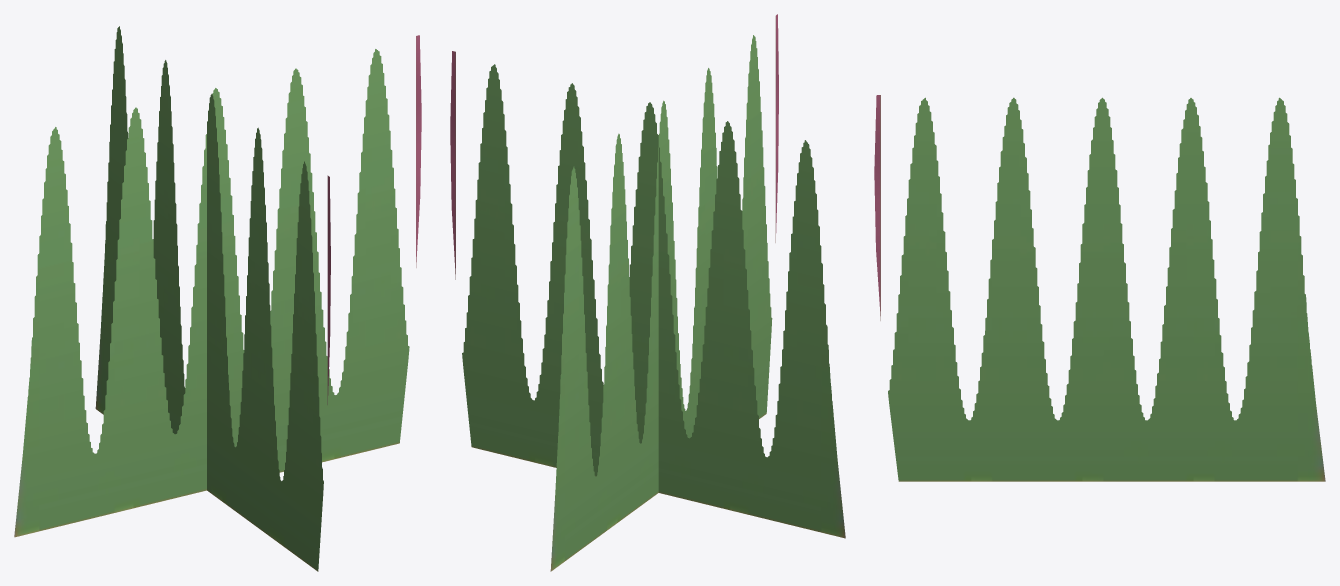
The model's file is grass_tuft_b.glb.
The picture shows the model from 3 angles, left to right: view 1: azimuth 30°, elevation 25°; view 2: azimuth 150°, elevation 25°; view 3: azimuth 270°, elevation 25°; orthographic projection. The views are drawn at different scales.
Visible parts, largest first — view 1: lod0; view 2: lod0; view 3: lod0.
Part boxes in pixels (x1,y1,x2,y2): lod0: (14,26,421,571); lod0: (450,14,845,571); lod0: (874,95,1325,481).
Bounding box in the file's own units: 0.74 × 0.7 × 0.74.
Materials: 1 (1 with a texture image).
